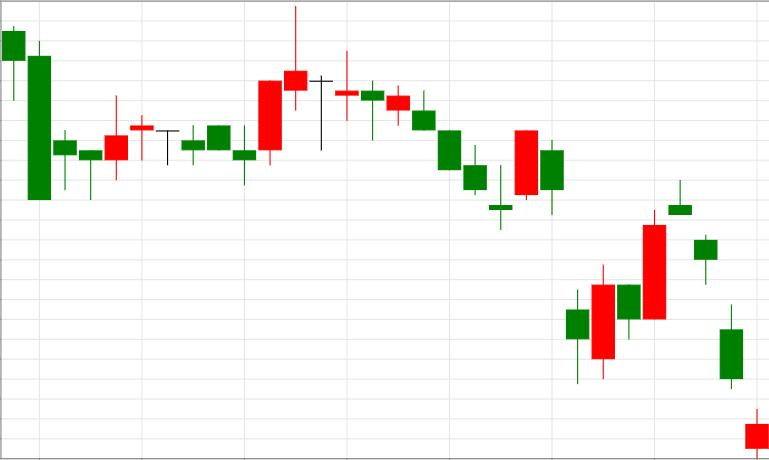morning_star_rise: (361, 78, 538, 230)
